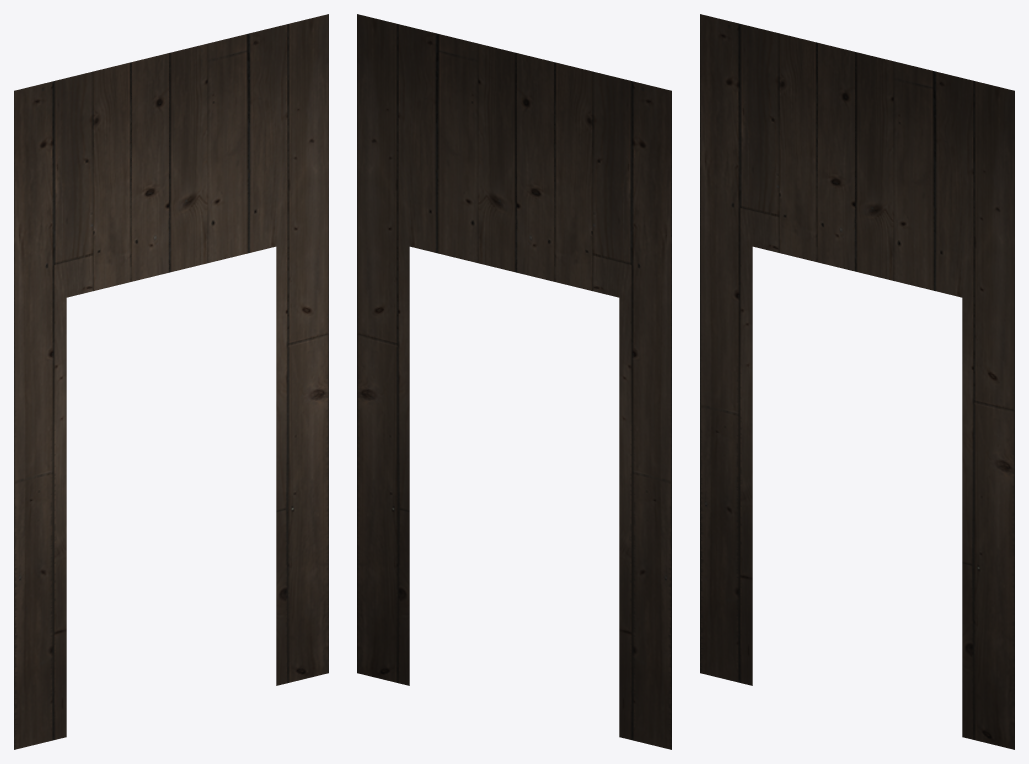
The model's file is Wall.W_3x1.5_Door.fbx.
The picture shows the model from 3 angles, left to right: view 1: azimuth 30°, elevation 25°; view 2: azimuth 150°, elevation 25°; view 3: azimuth 330°, elevation 25°; orthographic projection.
Visible parts, largest first — view 1: Wall.W_3x1.5_Door; view 2: Wall.W_3x1.5_Door; view 3: Wall.W_3x1.5_Door.
Part boxes in pixels (box(x1,y1,x2,y2)): Wall.W_3x1.5_Door: box(14, 14, 328, 749); Wall.W_3x1.5_Door: box(357, 14, 671, 749); Wall.W_3x1.5_Door: box(700, 14, 1014, 749).
Size of the model in its own units: 150 by 300 by 4.01e-05.
